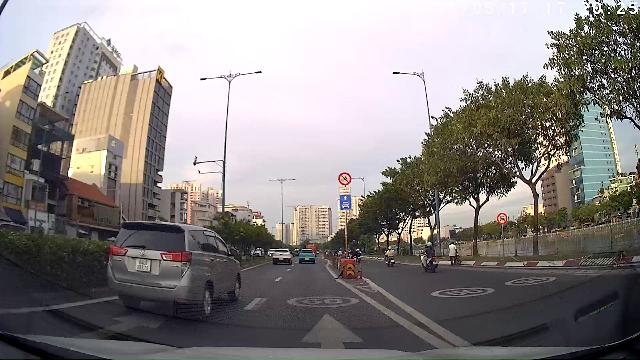103a-cam-oto: (497, 212, 508, 224)
